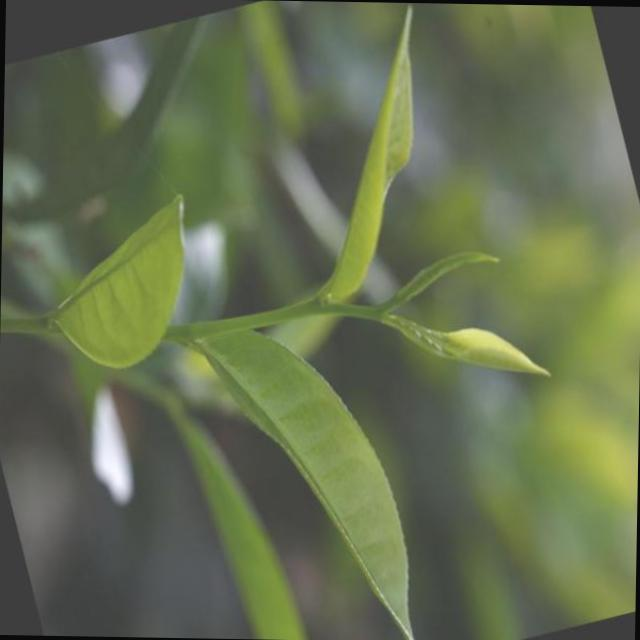Stem: (251, 299, 317, 328)
